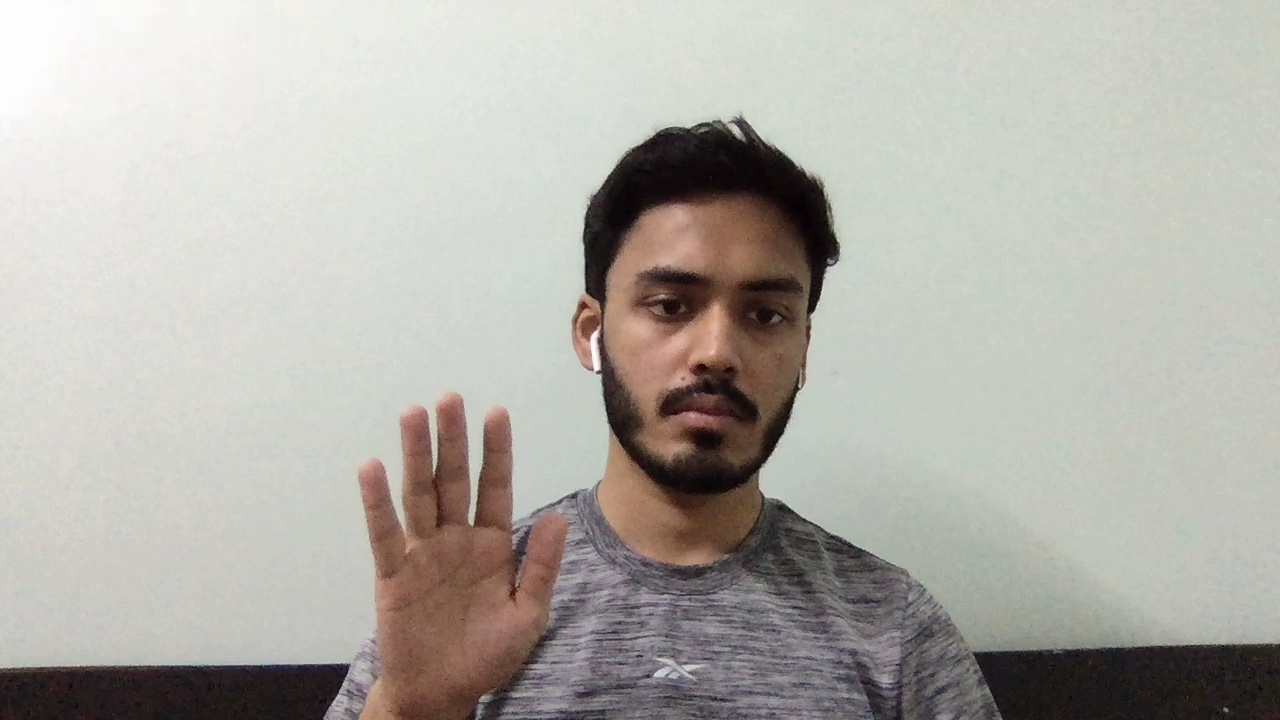Hello: (321, 370, 579, 712)
